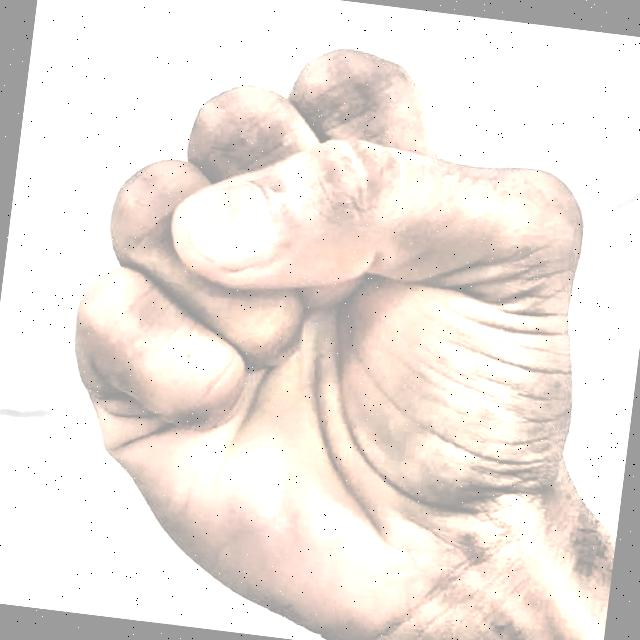Sha: (2, 0, 633, 640)
